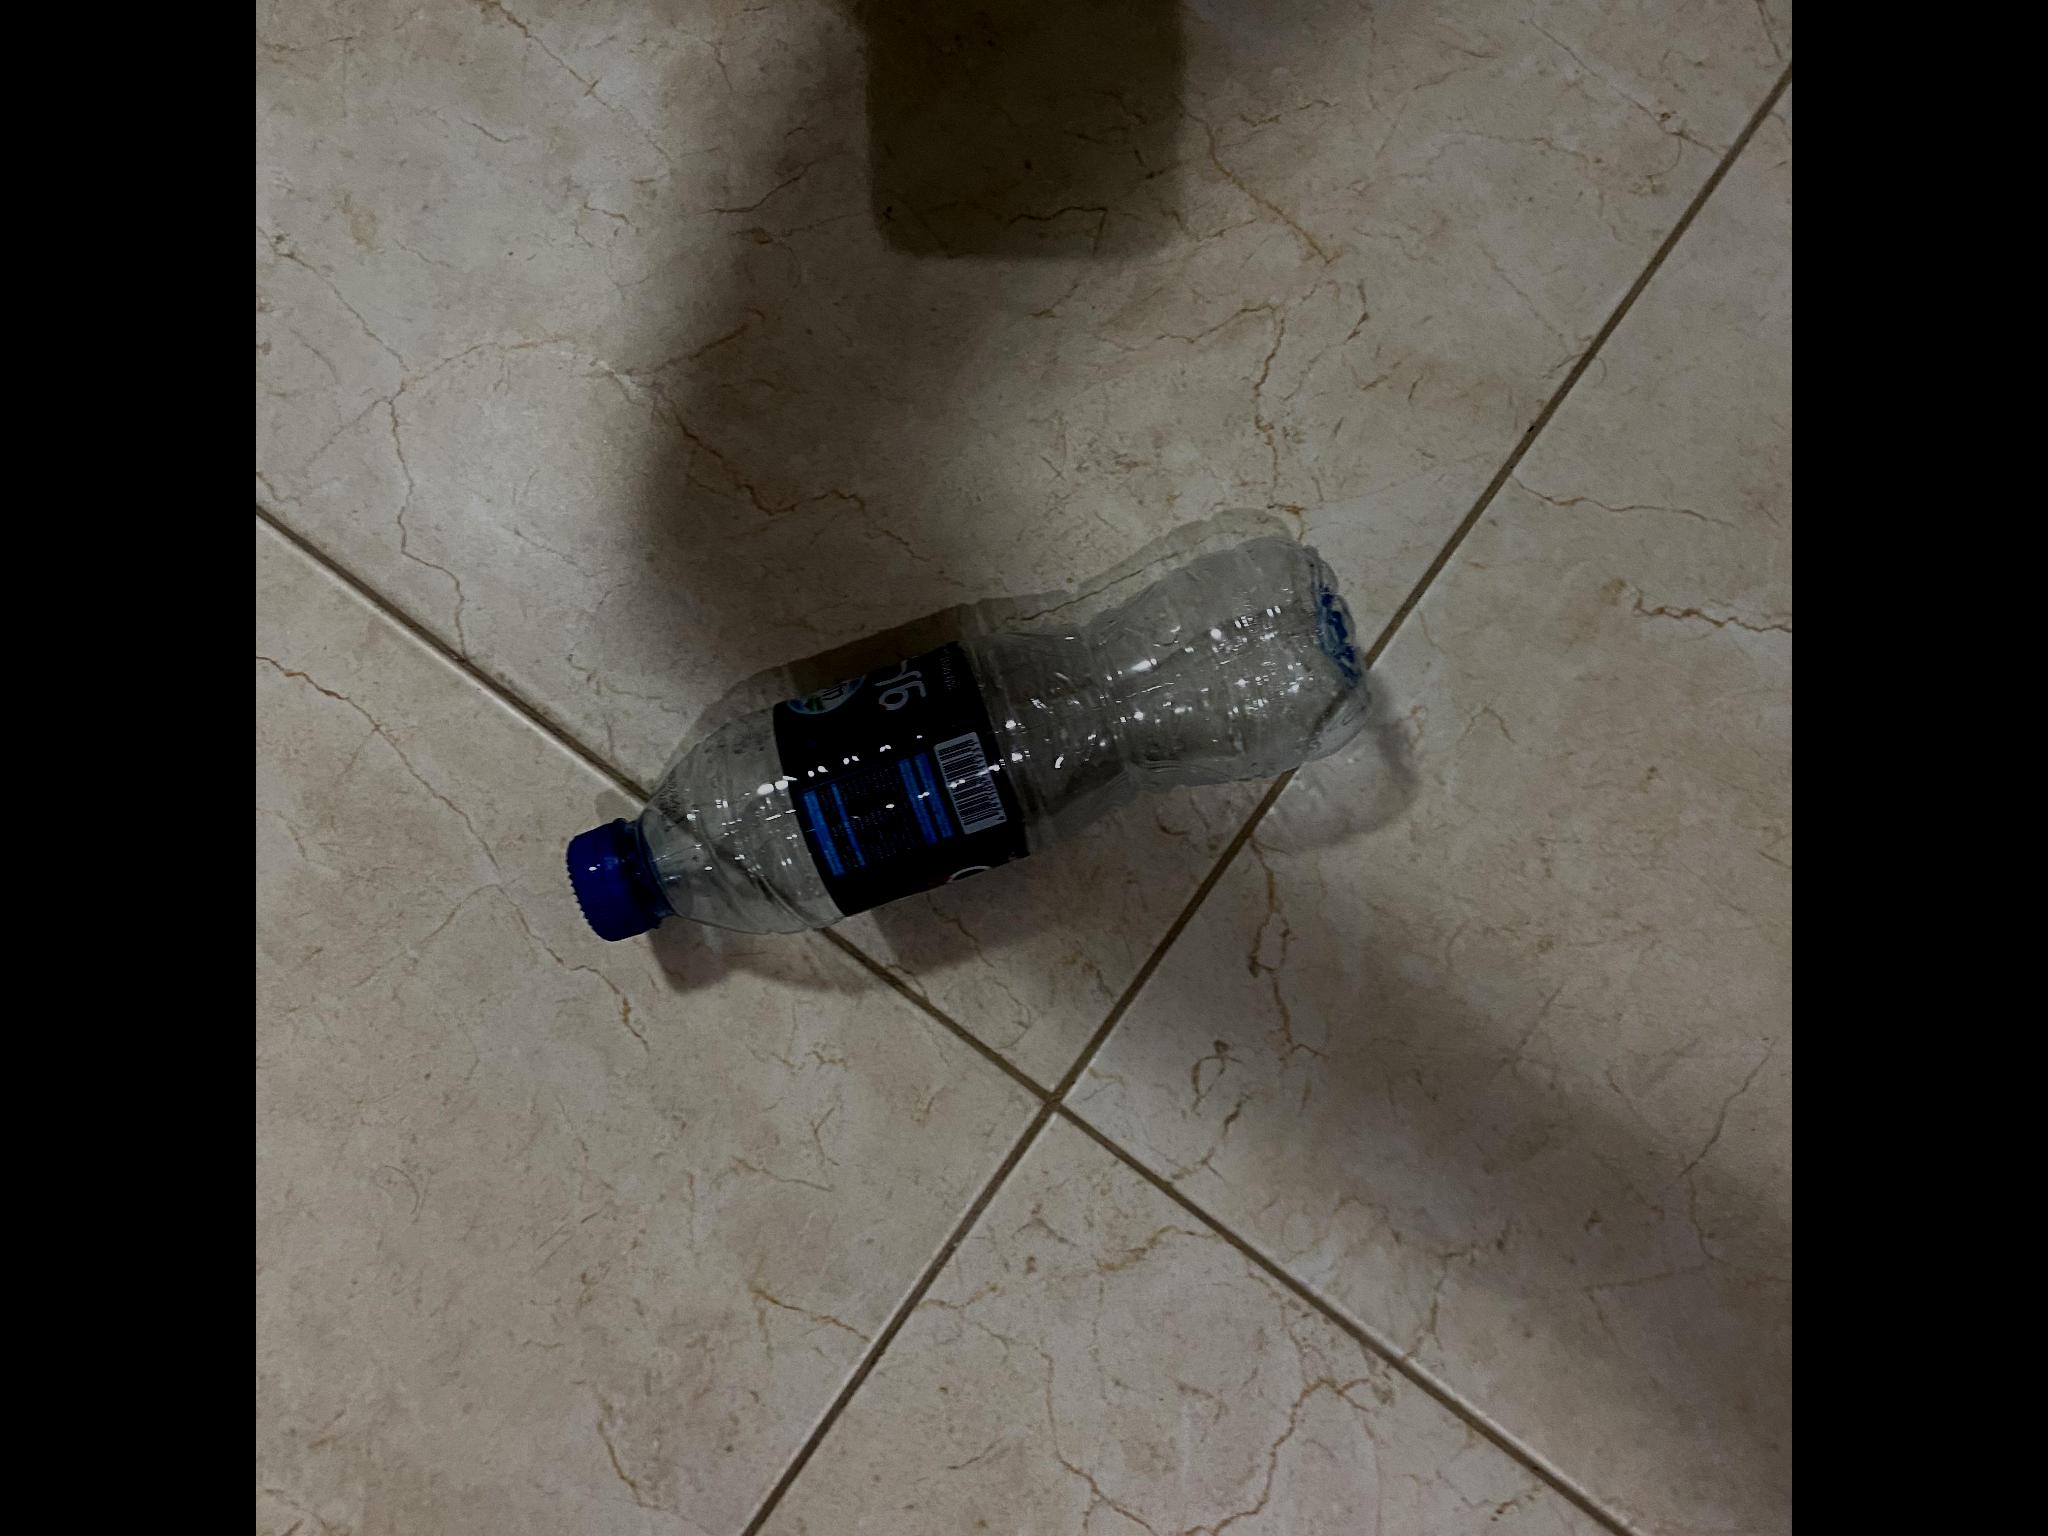bottle: (556, 505, 1376, 955)
